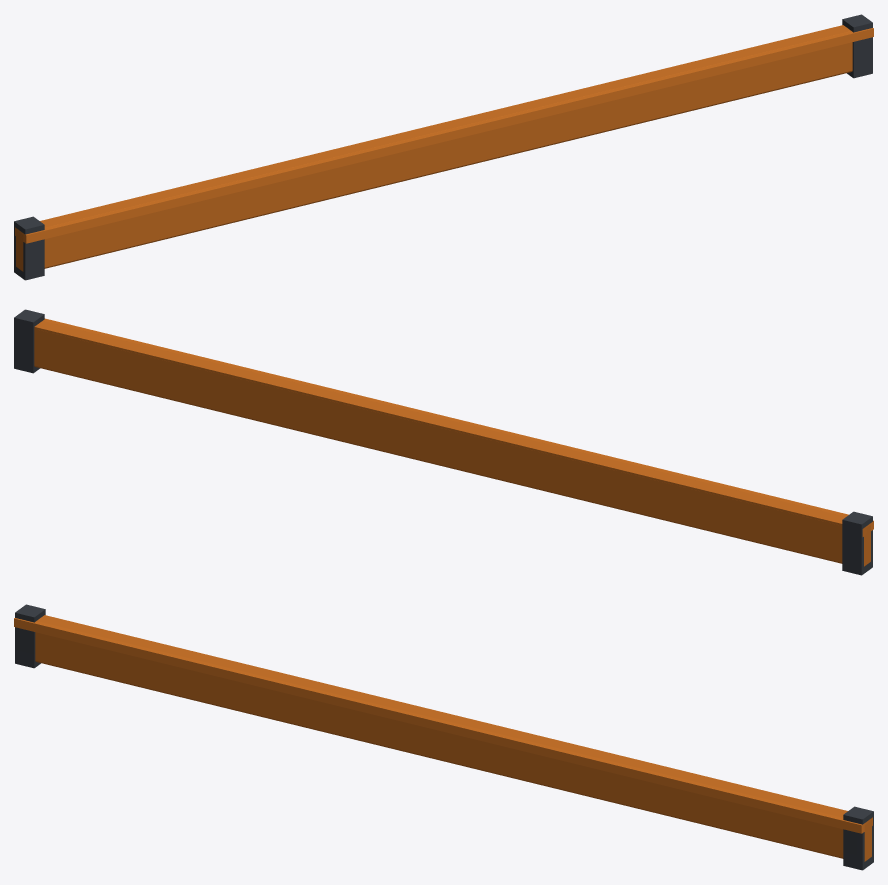
File: larguero-t457yAcN.glb
3 views of the same model, one above another, from view 1: azimuth 30°, elevation 25°; view 2: azimuth 150°, elevation 25°; view 3: azimuth 330°, elevation 25° (orthographic).
Visible parts, largest first — view 1: pieza, pieza.001, pieza.002, pieza.003; view 2: pieza, pieza.001, pieza.002, pieza.003; view 3: pieza, pieza.001, pieza.003, pieza.002.
Boxes of the visible parts, x1=… form: pieza: x1=16, y1=26, x2=852, y2=271; pieza.001: x1=15, y1=25, x2=873, y2=243; pieza.002: x1=14, y1=216, x2=44, y2=280; pieza.003: x1=842, y1=14, x2=872, y2=78; pieza: x1=34, y1=321, x2=870, y2=566; pieza.001: x1=34, y1=318, x2=873, y2=536; pieza.002: x1=842, y1=511, x2=872, y2=575; pieza.003: x1=14, y1=309, x2=44, y2=373; pieza: x1=35, y1=616, x2=871, y2=861; pieza.001: x1=14, y1=615, x2=872, y2=833; pieza.003: x1=843, y1=806, x2=873, y2=870; pieza.002: x1=15, y1=604, x2=45, y2=668.
Bounding box in the file's own units: 2.61 × 0.15 × 0.0649.
